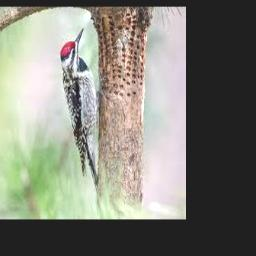Woodpecker: (61, 27, 100, 189)
